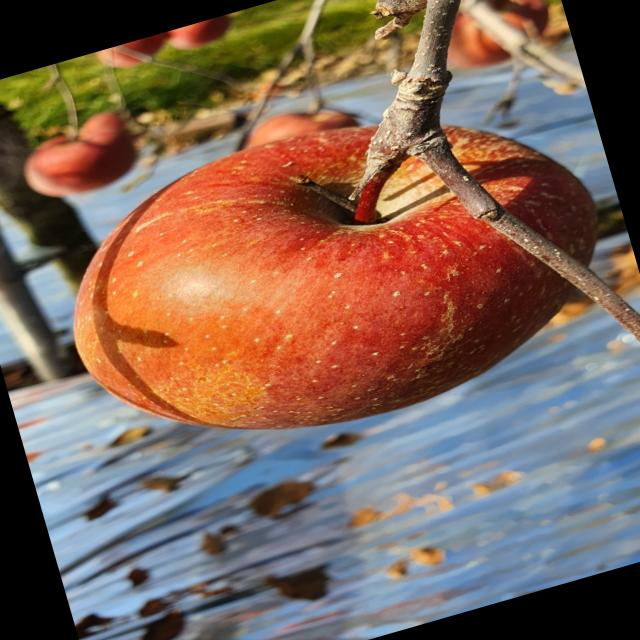fresh: (17, 46, 640, 504)
